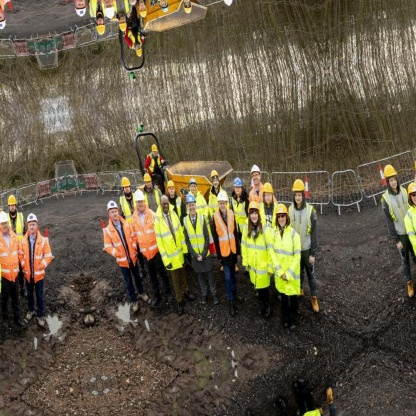blue: (183, 190, 198, 208), (231, 176, 245, 191), (188, 177, 199, 187)
vest: (263, 220, 314, 302), (234, 216, 278, 294), (151, 206, 191, 273), (101, 211, 139, 273), (130, 202, 163, 260), (179, 208, 213, 263), (209, 204, 242, 260), (227, 191, 254, 233), (139, 182, 165, 214), (116, 189, 140, 223), (185, 188, 207, 215)
white: (103, 198, 121, 214), (215, 188, 231, 206), (132, 187, 146, 204), (249, 163, 263, 176)
yellow: (272, 200, 293, 220), (288, 175, 306, 195), (244, 199, 261, 215), (260, 180, 275, 196), (119, 174, 133, 189), (141, 171, 153, 186), (165, 179, 177, 193), (150, 142, 159, 154), (210, 168, 219, 179)
